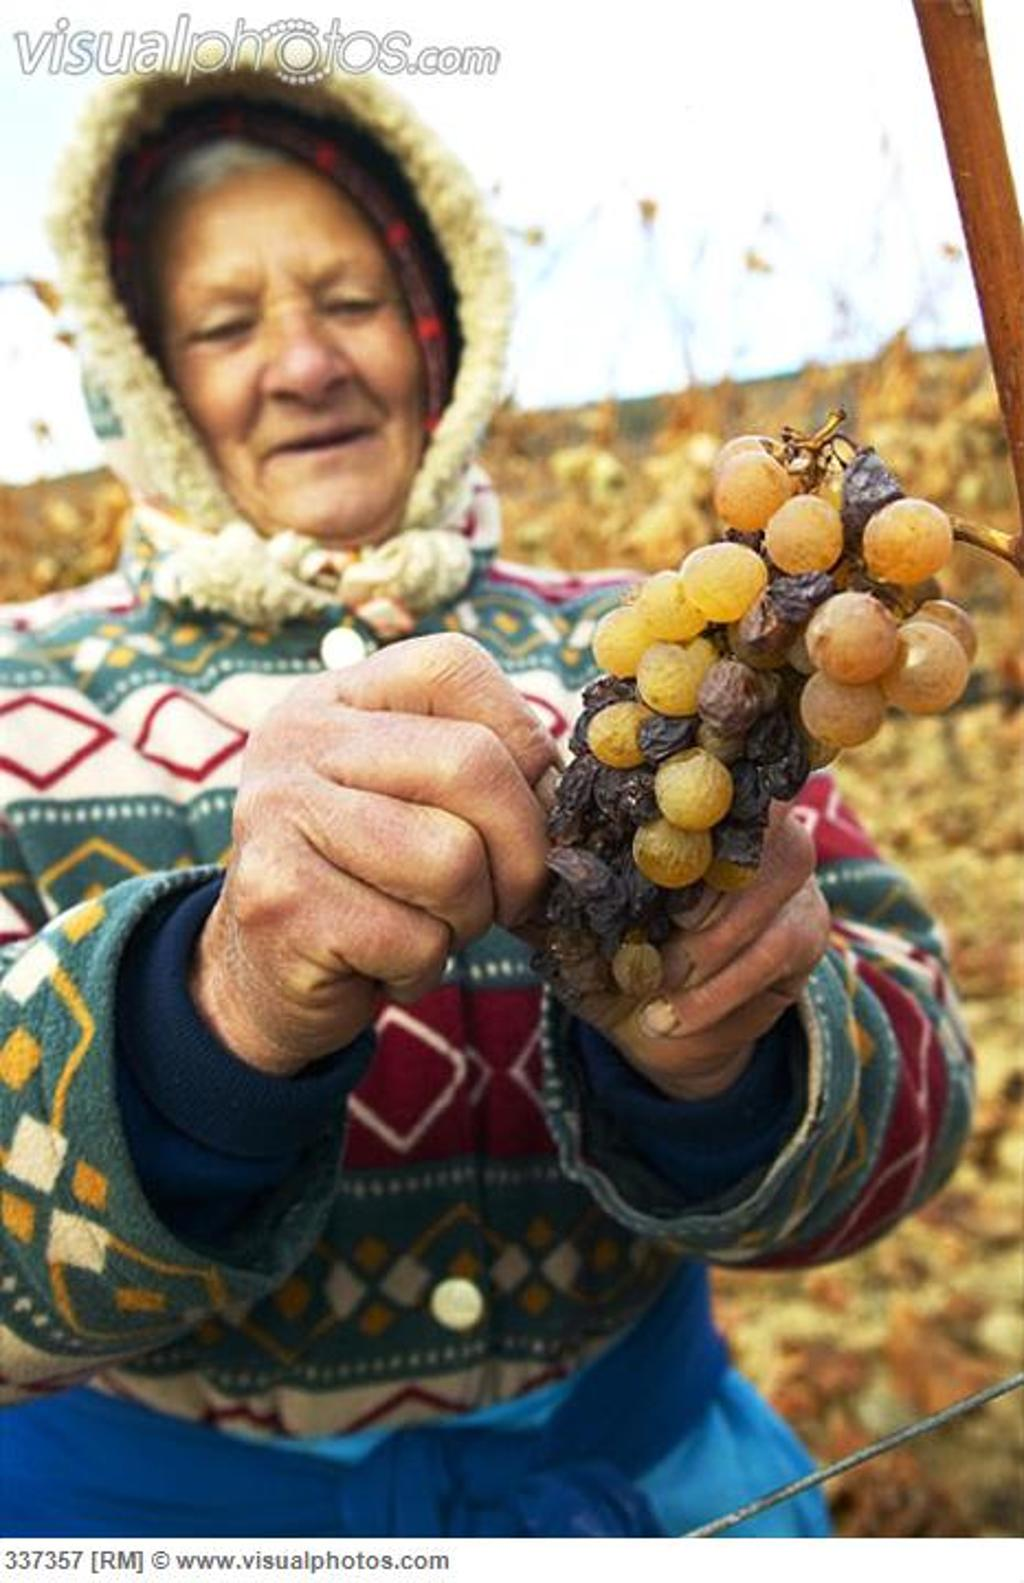face: (170, 176, 421, 519)
